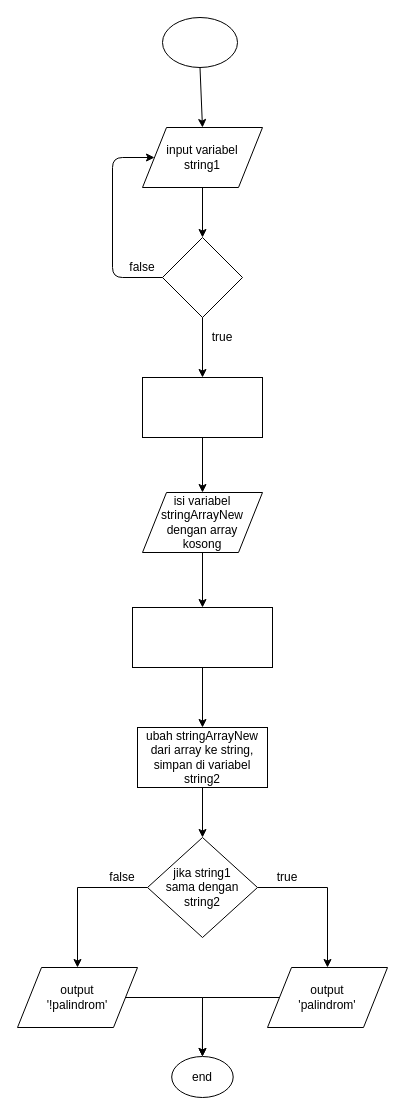
Some shapes in this 405 by 1115 pixel diagram are drawn without their labels. The shapes that lost their labels are listed below. From the top down, each one's centre as x and y in pixels, then its label:
point 200,42: start
point 202,277: jika string > 0 ?
point 202,407: ubah variabel string ke array, simpan di stringArray
point 202,637: loop terbalik var stringArray, simpan valuenya ke var stringArrayNew
